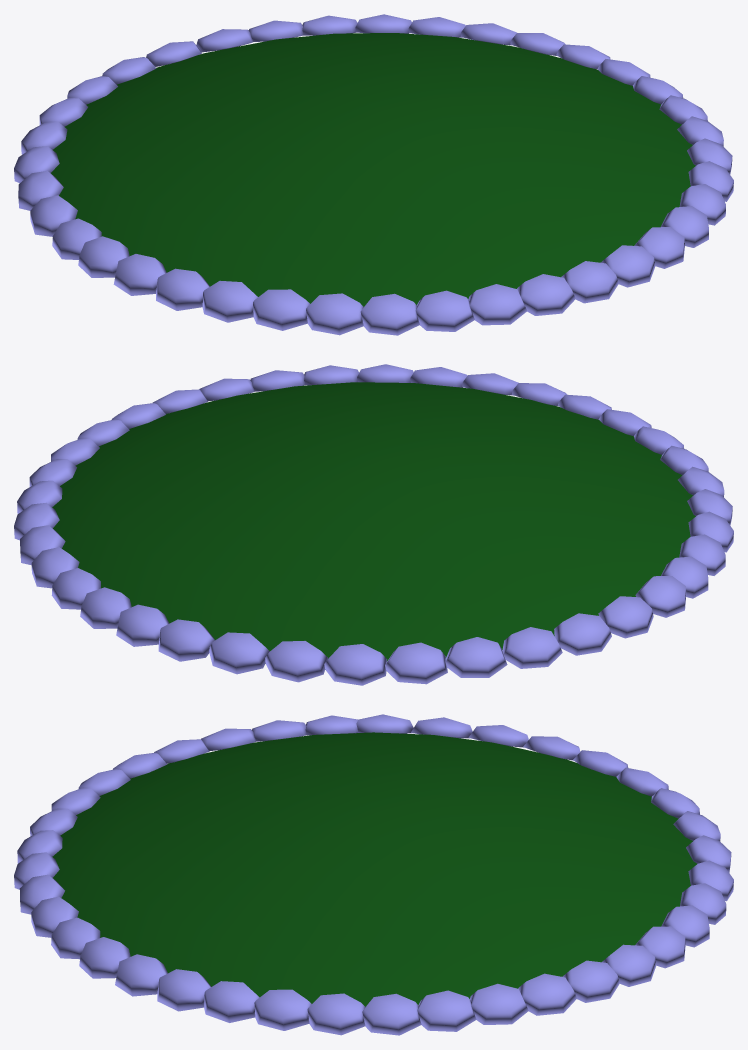
The model's file is grass deco.FBX.
3 renders of one model, top to bottom at view 1: azimuth 30°, elevation 25°; view 2: azimuth 150°, elevation 25°; view 3: azimuth 270°, elevation 25°, orthographic.
Visible parts, largest first — view 1: Sphere089; view 2: Sphere089; view 3: Sphere089.
Part boxes in pixels (bbox=[...]): Sphere089: bbox=[14, 14, 733, 335]; Sphere089: bbox=[14, 364, 733, 685]; Sphere089: bbox=[14, 714, 733, 1035].
Bounding box in the file's own units: 5.16 × 0.6153 × 5.16.
